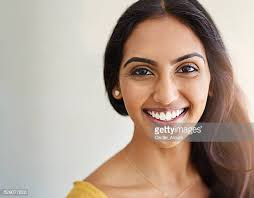indian_female: (92, 1, 222, 153)
